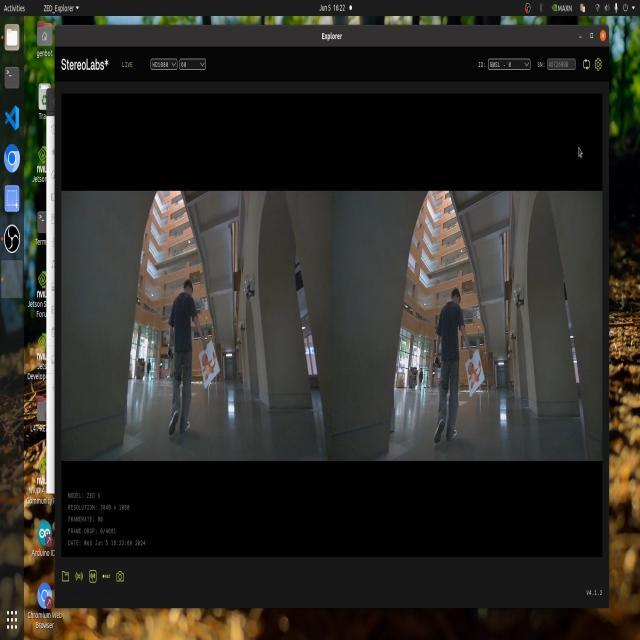red: (466, 354, 484, 391), (199, 348, 214, 388)
